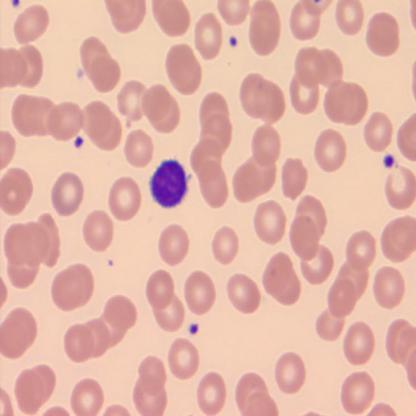Lymphocyte: (149, 155, 191, 209)
